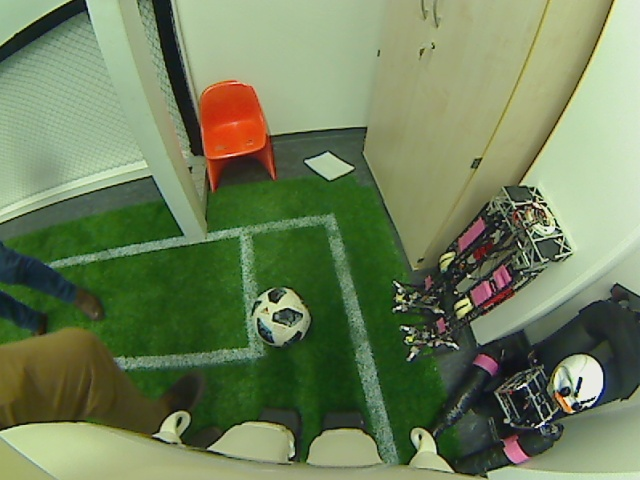ball: (252, 284, 311, 348)
